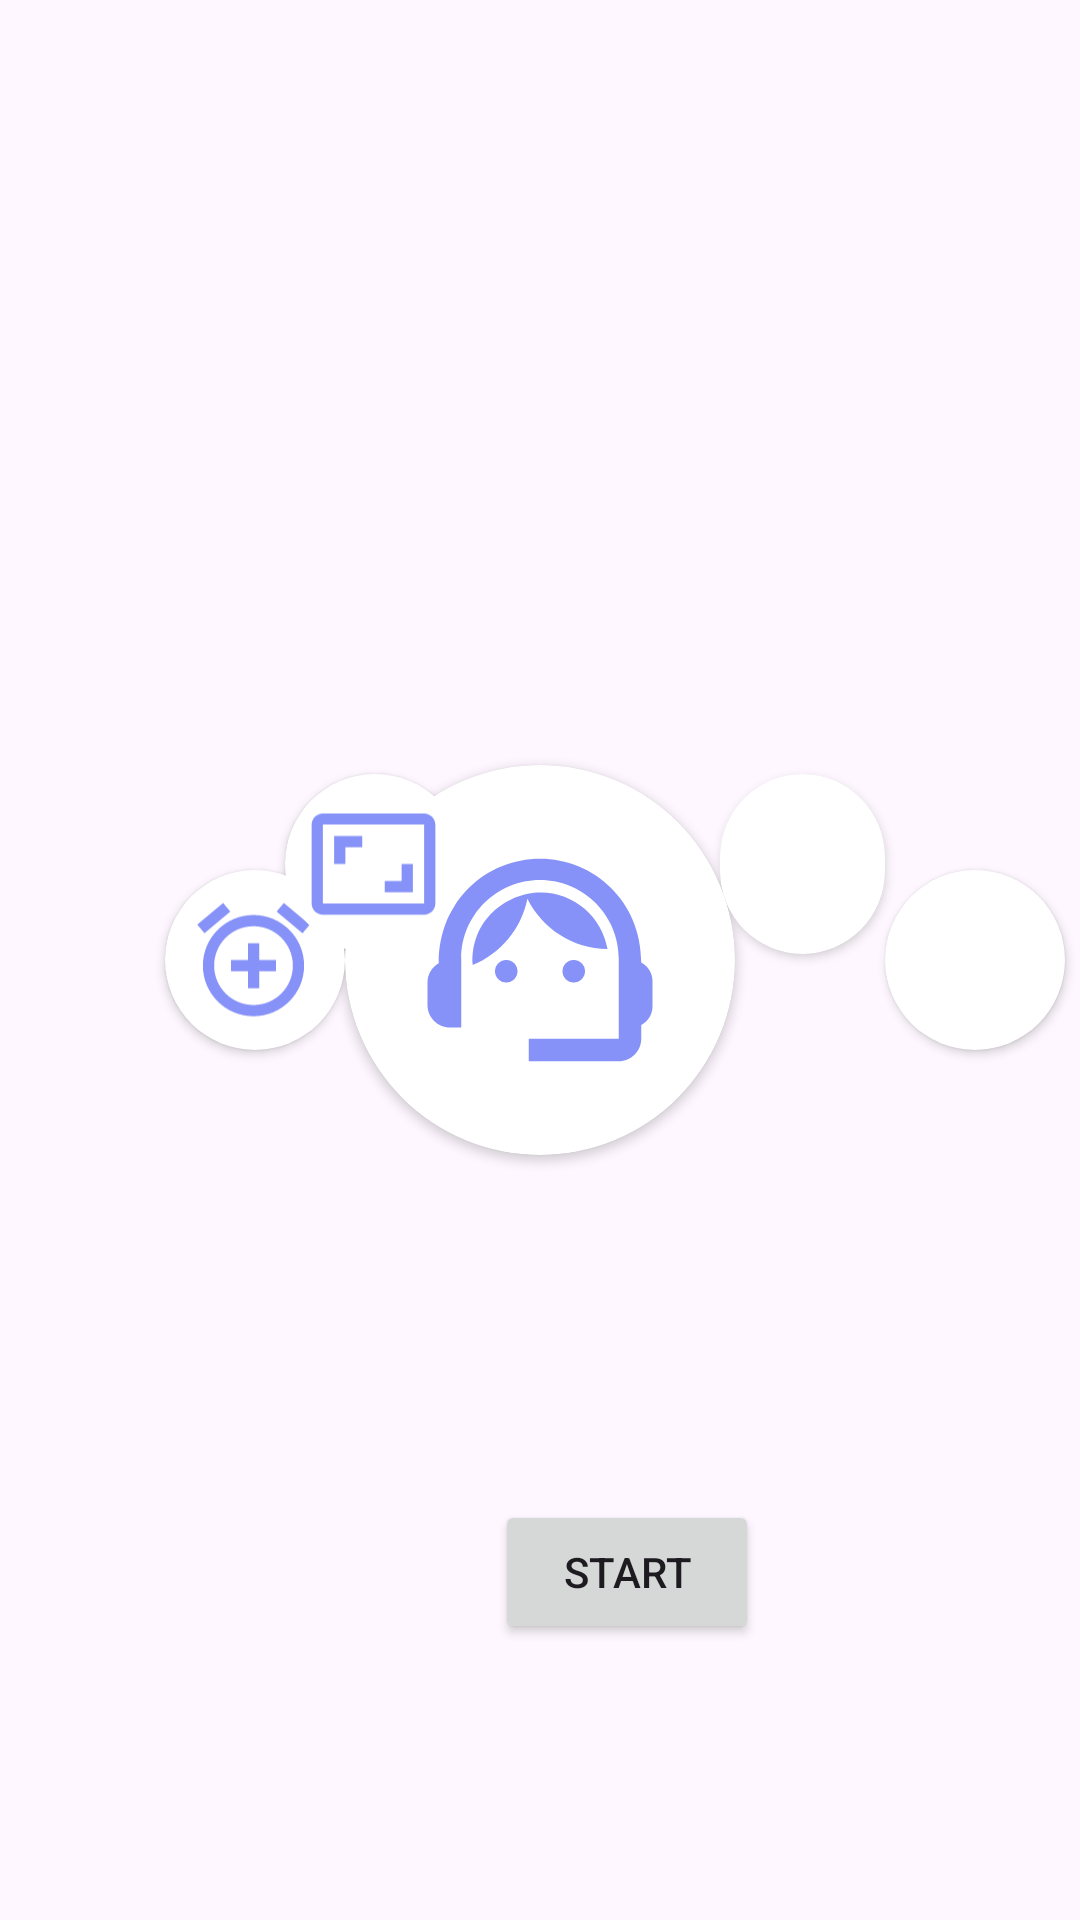

Icons on this 1080x1920 Android screen, each with the point to tap as [x,y]:
add alarm: [253,949]
